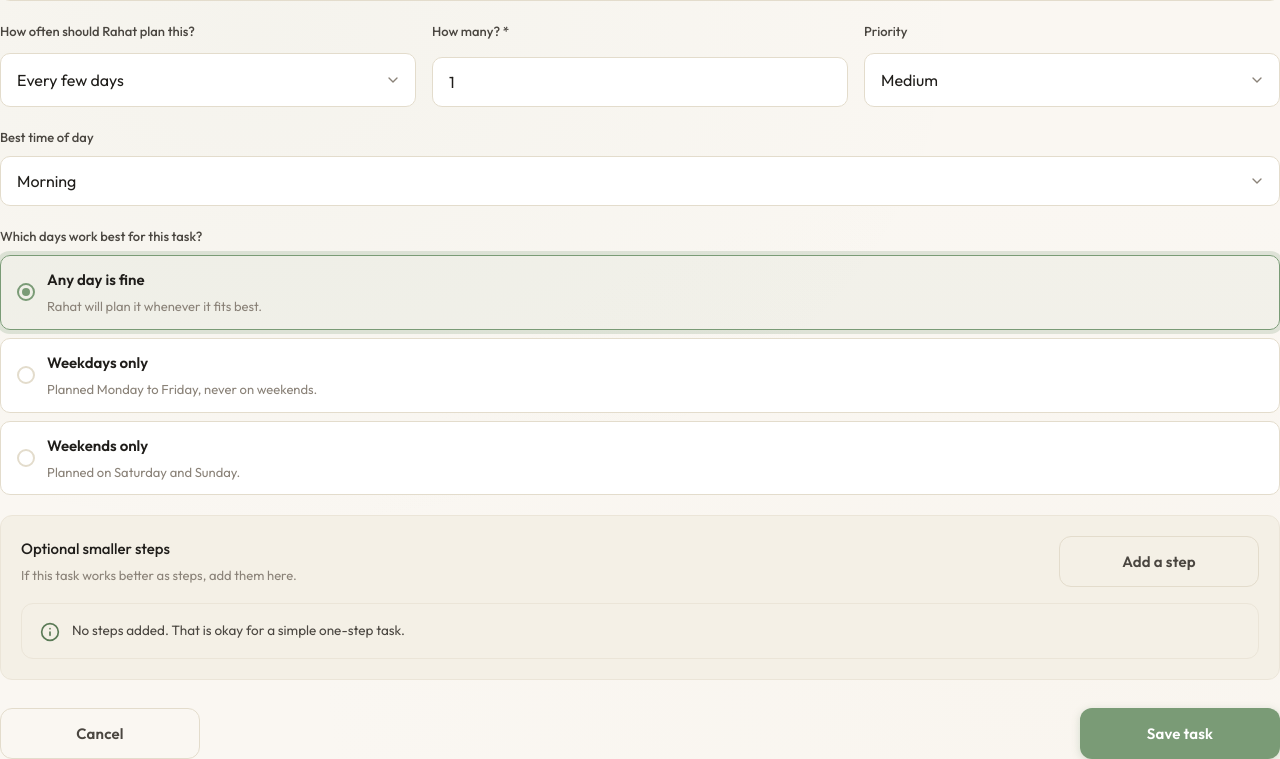
Test: TaskEditor › adds and removes subtasks
(page scrolled)
Expected: the text "No steps added. That is okay for a simple one-step task." is shown, top-left (72, 620), bottom-right (405, 642)
Click the button "Add a step" at (1159, 562), box top-left (1059, 536), bottom-right (1259, 587)
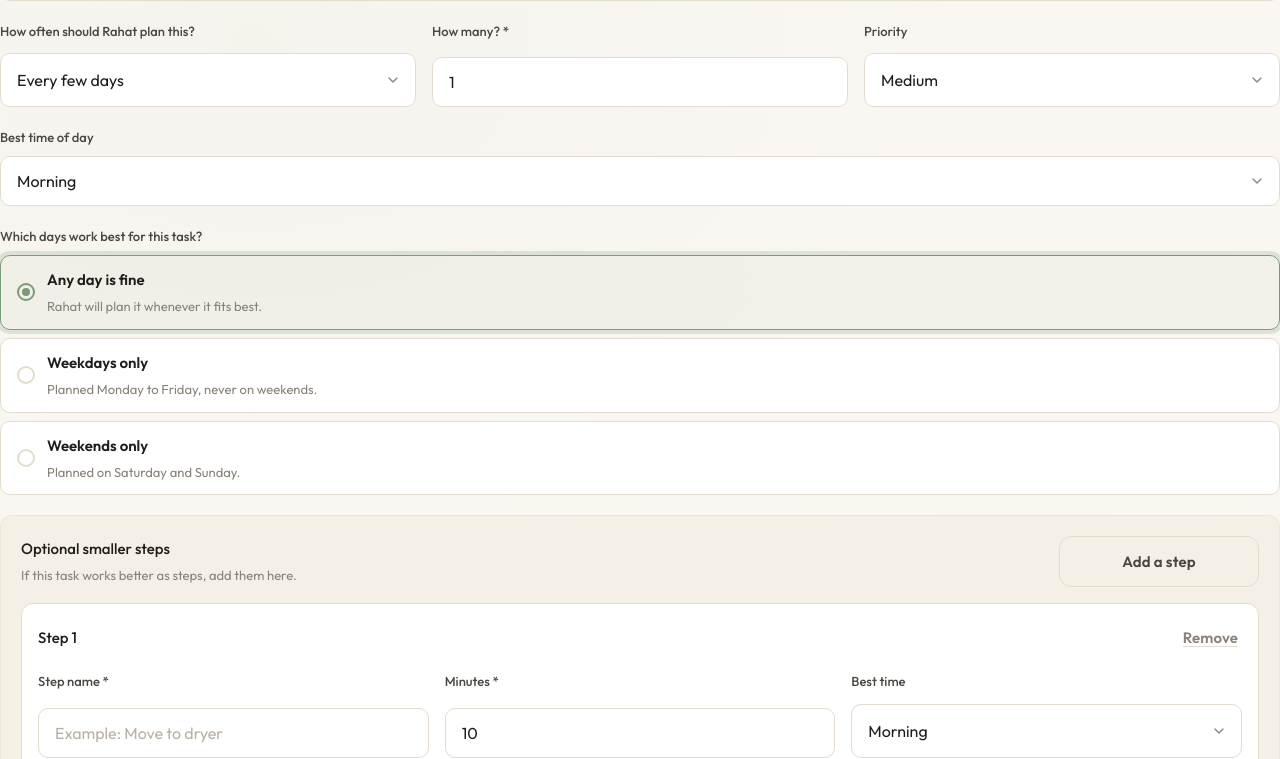
Now the heading "Step 1" is shown, box top-left (38, 626), bottom-right (77, 650)
Click the button "Remove" at (1210, 638), box top-left (1179, 620), bottom-right (1242, 655)
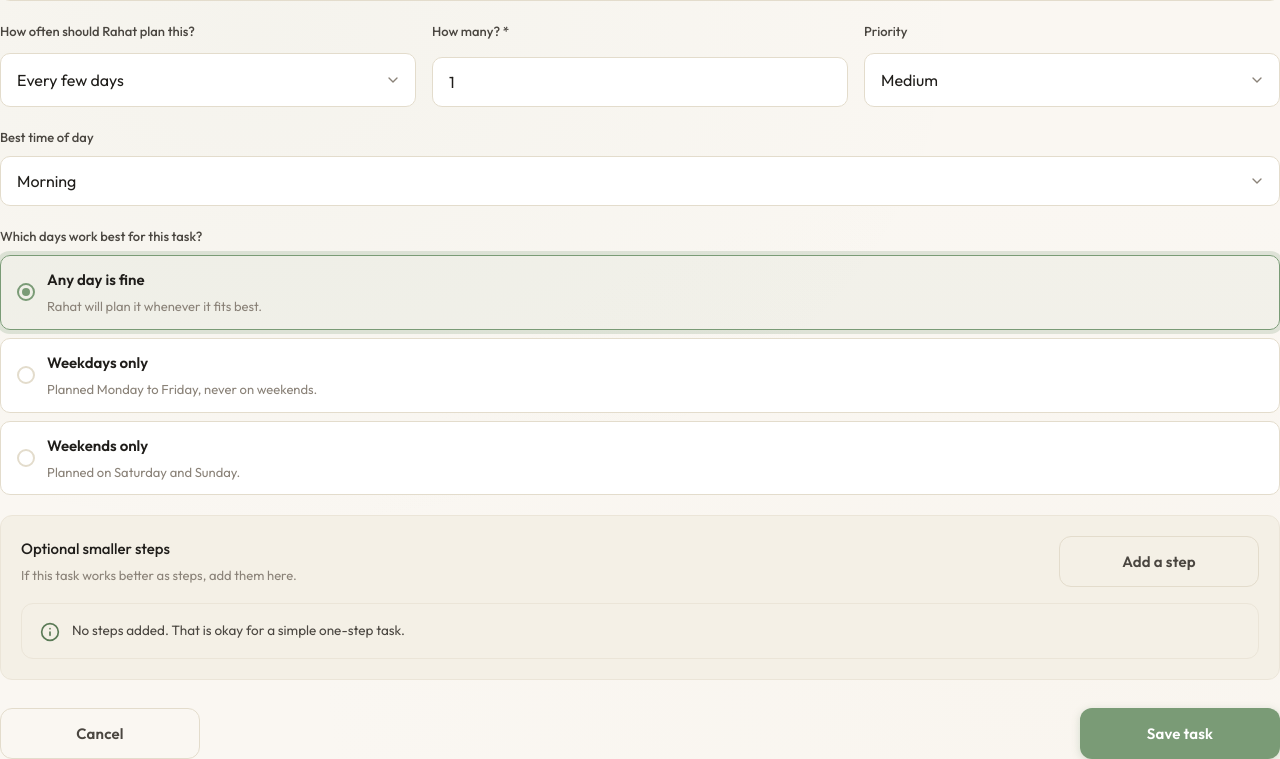
Now the text "No steps added. That is okay for a simple one-step task." is shown, box top-left (72, 620), bottom-right (405, 642)
